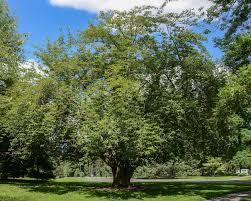tree: (4, 4, 241, 187)
